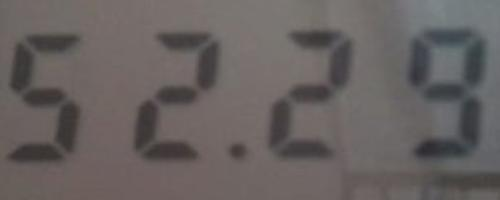.: (225, 139, 249, 163)
